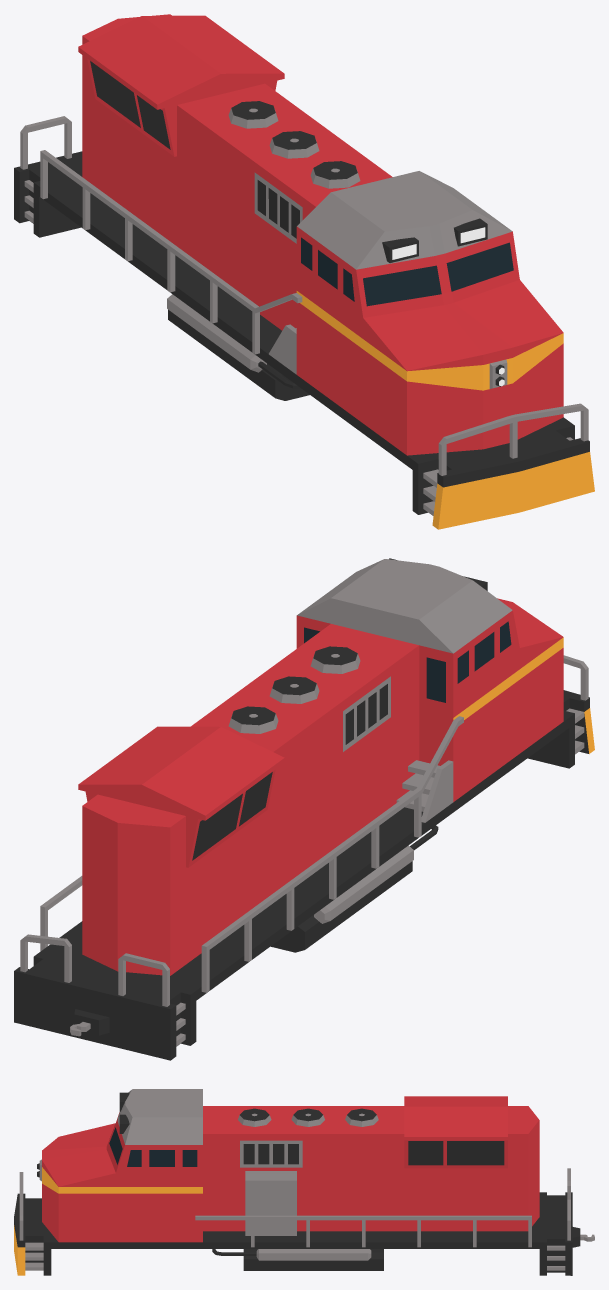
Rendered from train-freight-big-base.glb.
3 views of the same model, one above another, from view 1: azimuth 30°, elevation 25°; view 2: azimuth 150°, elevation 25°; view 3: azimuth 270°, elevation 25° (orthographic). The views are drawn at different scales.
Visible parts, largest first — view 1: train-freight-big-base; view 2: train-freight-big-base; view 3: train-freight-big-base.
Boxes of the visible parts, x1,y1,x2,y2 form: train-freight-big-base: (14,14,594,529); train-freight-big-base: (14,558,594,1060); train-freight-big-base: (14,1089,594,1275).
Bounding box in the file's own units: 3.4 × 4.45 × 15.71.
Materials: 1 (1 with a texture image).
